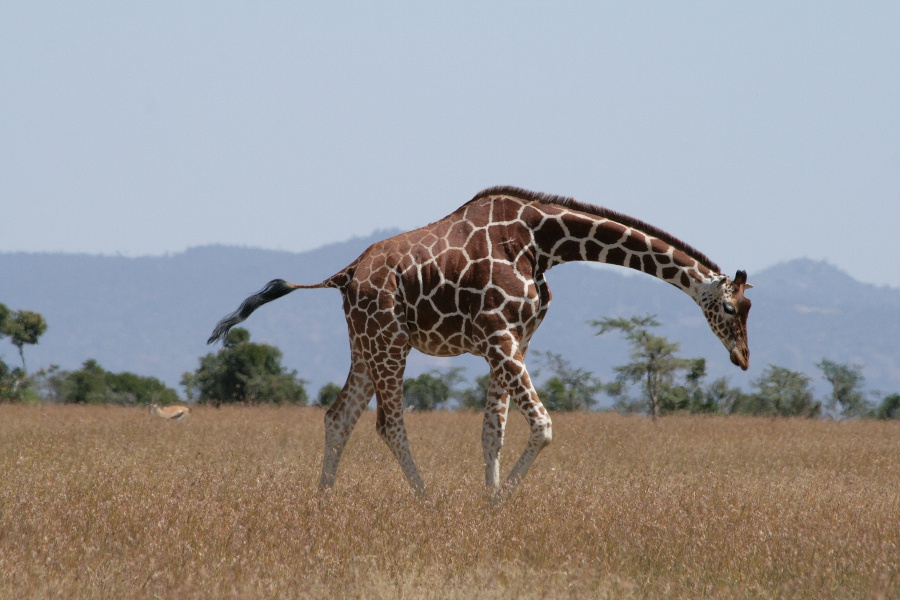giraffe: (303, 173, 759, 509)
